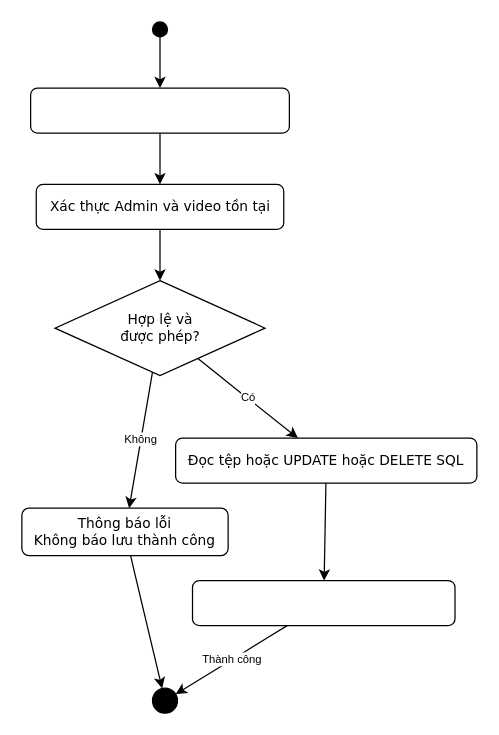
The diagram is 499 pixels wide and 735 high, and some of its shapes have lost their labels. Each missing label, with the box of its shape:
Chọn xem đổi trạng thái hoặc xóa: (29, 87, 289, 133)
Nếu xóa video thì dọn tệp uploads: (191, 579, 455, 626)
